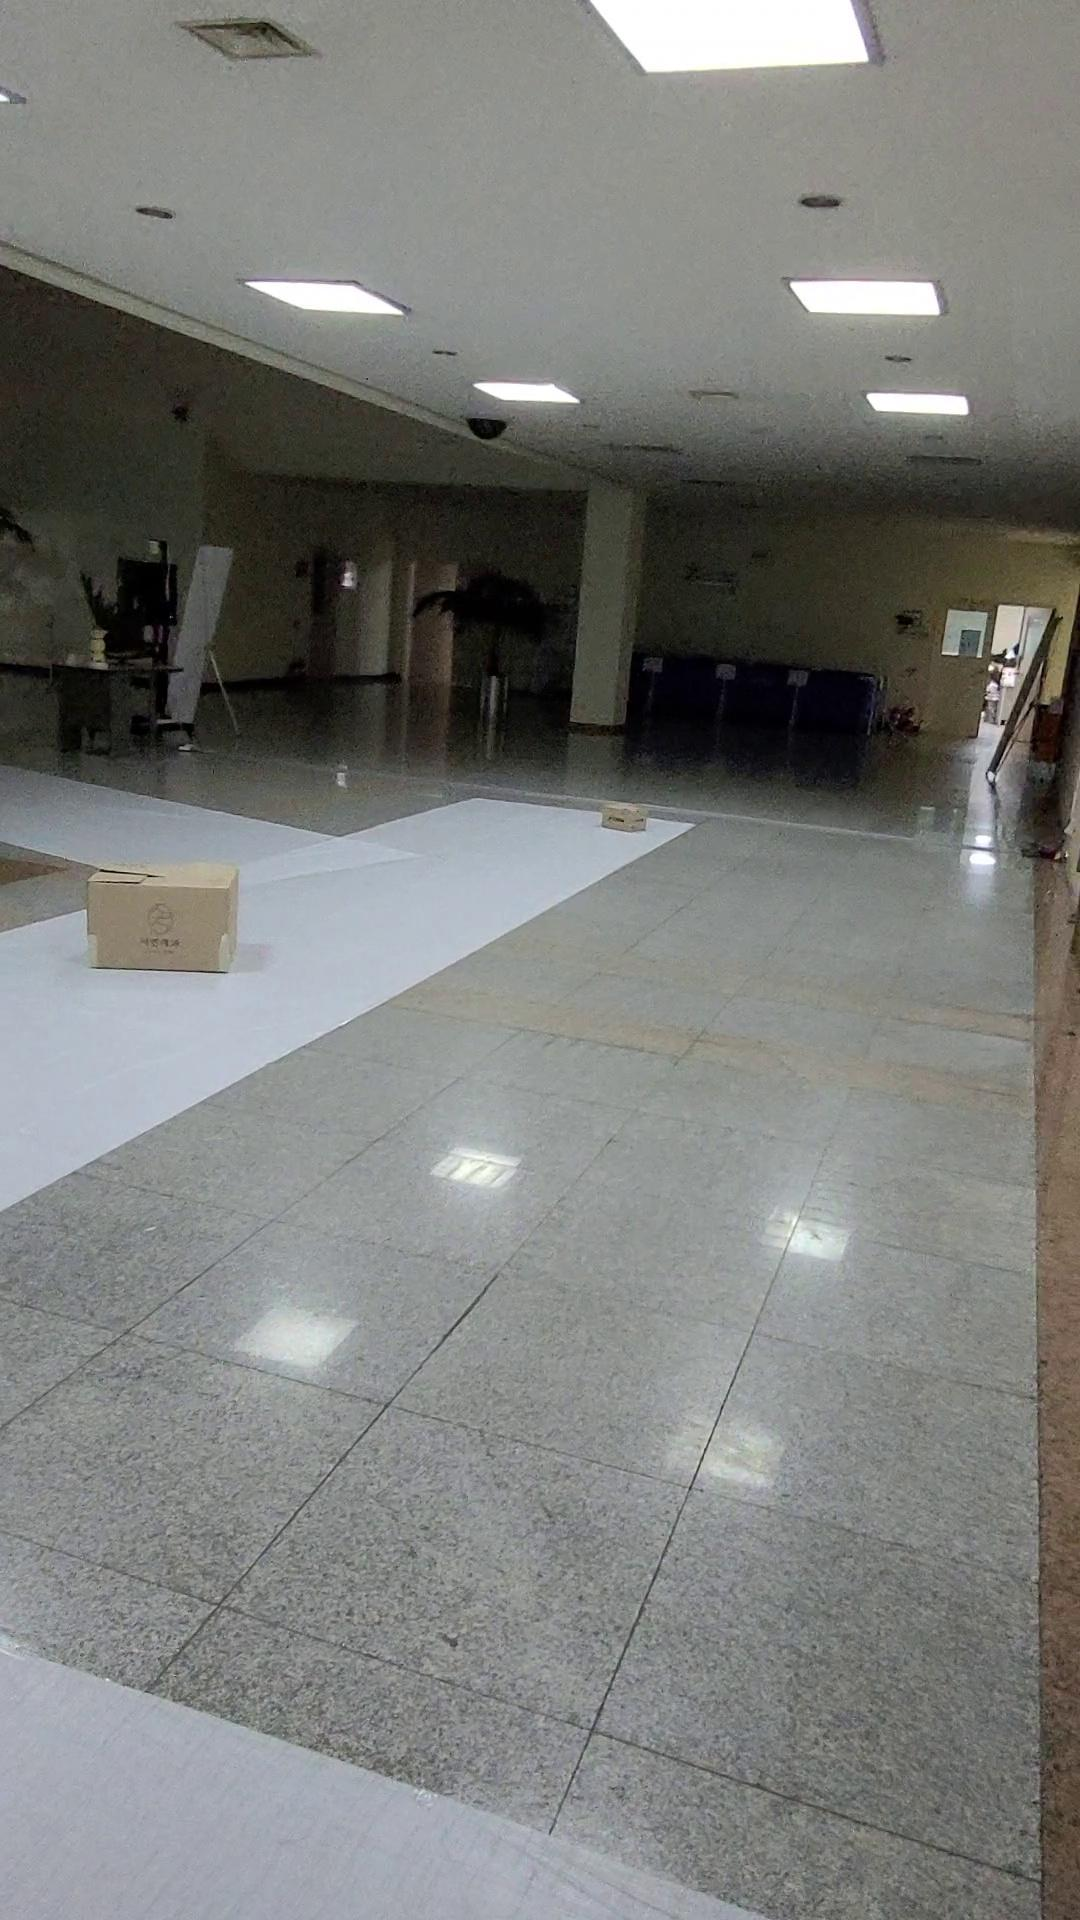Box: (61, 820, 258, 1027), (571, 781, 670, 851)
